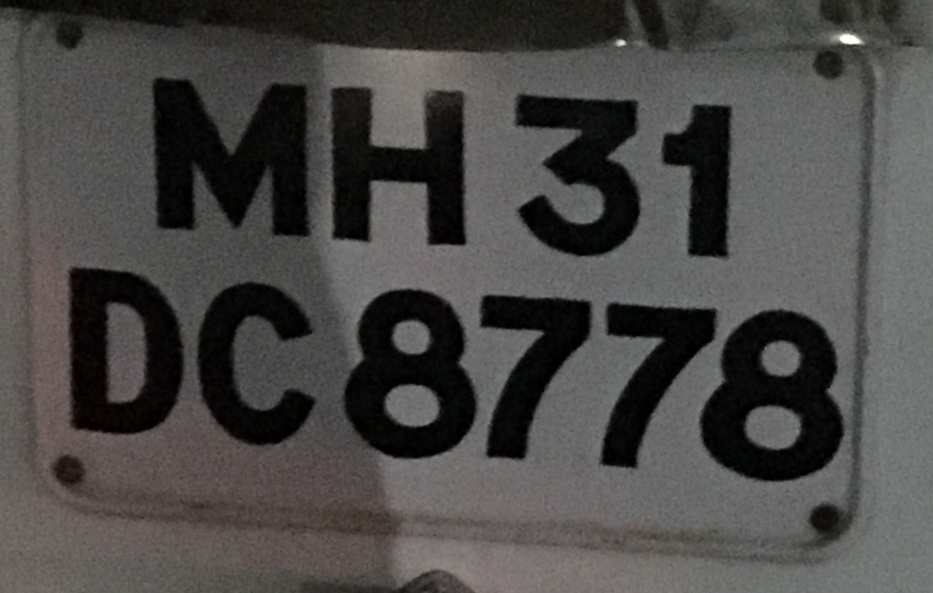numberplate: (16, 9, 884, 551)
